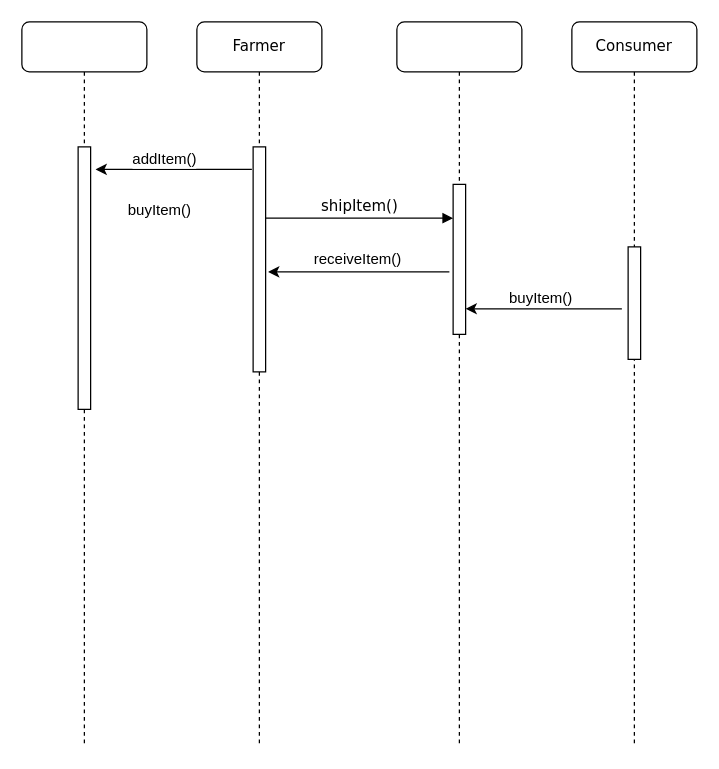
The diagram is 719 pixels wide and 769 high, and some of its shapes have lost their labels. The shapes that lost their labels are listed below. From the top down, each one's box as (x1, y1, x2, y2) in pixels, then its label:
(21, 21, 147, 747): Coffee
(396, 21, 522, 747): Seller
